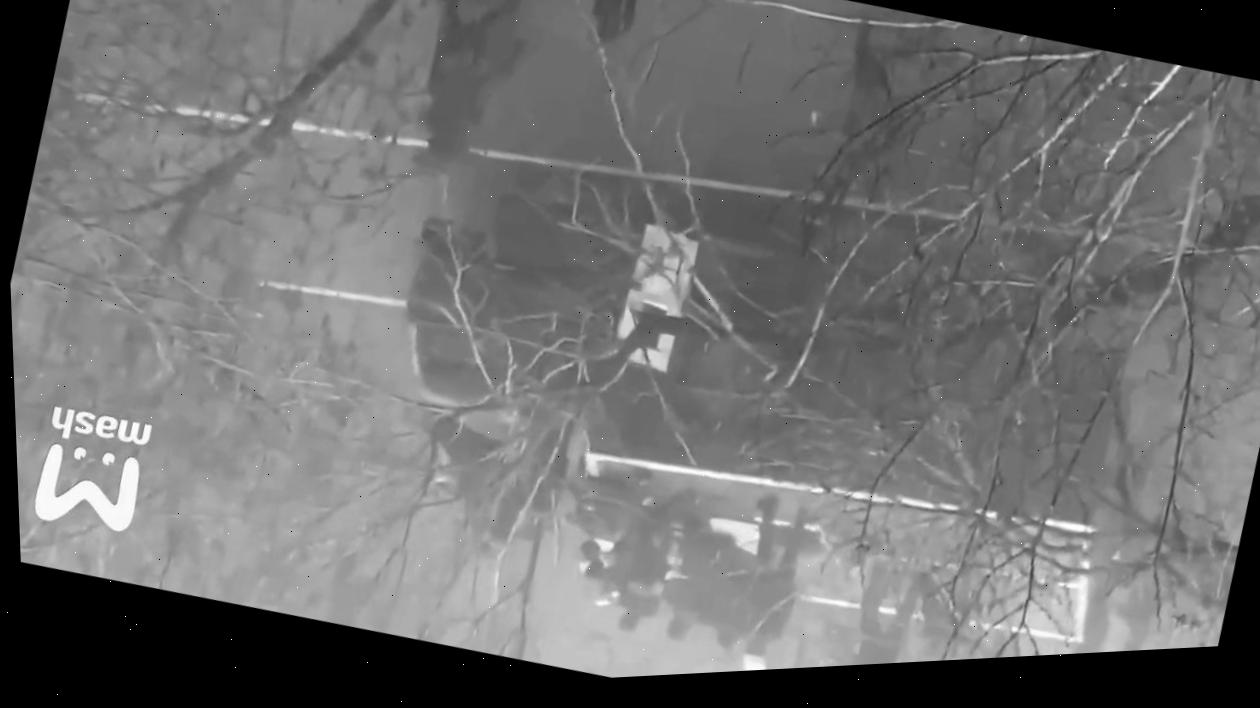person: (383, 0, 522, 147), (719, 497, 822, 672), (822, 551, 927, 667), (553, 456, 640, 565), (1100, 545, 1172, 652), (565, 0, 652, 61), (1068, 565, 1125, 654)
truck: (343, 111, 1176, 691)
